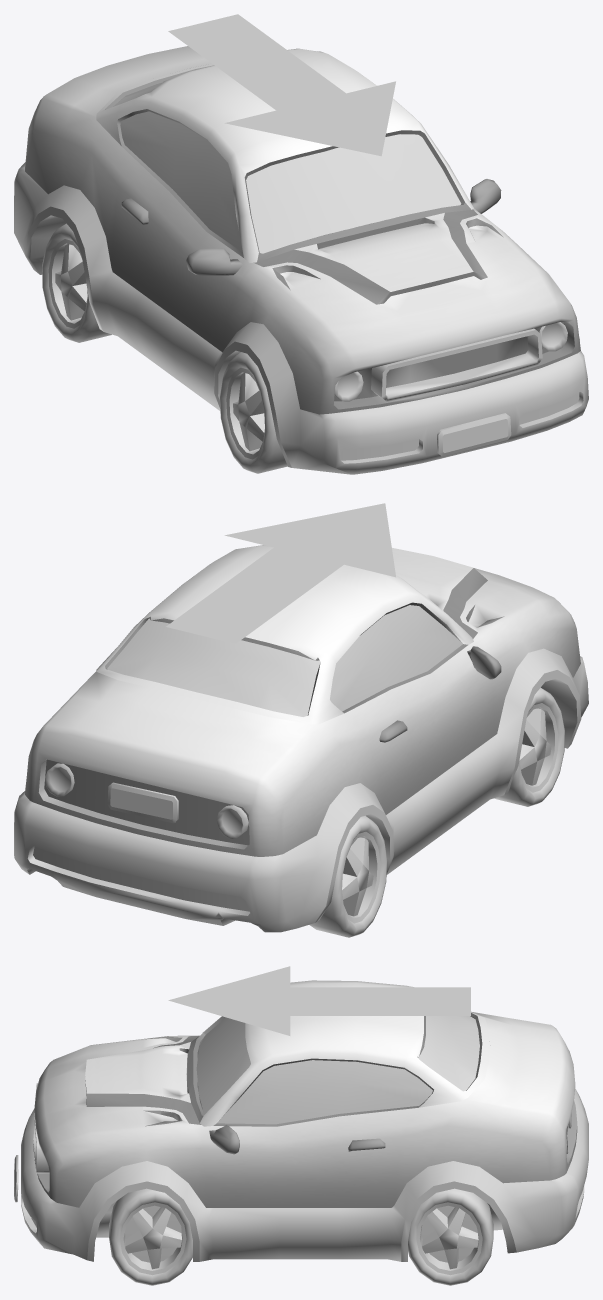
Rendered from 0 Car_FourSeater.fbx.
3 views of the same model, one above another, from view 1: azimuth 30°, elevation 25°; view 2: azimuth 150°, elevation 25°; view 3: azimuth 270°, elevation 25° (orthographic). The views are drawn at different scales.
Parts seen in each view (by area): view 1: Car_Body_Top_color, Car_body_Additional_part, Windows__Removable_, Car_roof__Removable__color, Arrow, Wheel_F_R, Wheel_R_R; view 2: Car_Body_Top_color, Car_body_Additional_part, Windows__Removable_, Car_roof__Removable__color, Arrow, Wheel_R_R, Wheel_F_R; view 3: Car_Body_Top_color, Car_body_Additional_part, Windows__Removable_, Car_roof__Removable__color, Arrow, Wheel_R_L, Wheel_F_L.
Boxes of the visible parts, x1=… form: Car_Body_Top_color: x1=25, y1=46, x2=580, y2=414; Car_body_Additional_part: x1=14, y1=162, x2=588, y2=474; Windows__Removable_: x1=114, y1=87, x2=461, y2=253; Car_roof__Removable__color: x1=96, y1=48, x2=473, y2=262; Arrow: x1=168, y1=14, x2=395, y2=156; Wheel_F_R: x1=220, y1=352, x2=287, y2=473; Wheel_R_R: x1=42, y1=223, x2=111, y2=342; Car_Body_Top_color: x1=25, y1=548, x2=580, y2=856; Car_body_Additional_part: x1=14, y1=648, x2=588, y2=932; Windows__Removable_: x1=107, y1=605, x2=462, y2=716; Car_roof__Removable__color: x1=96, y1=545, x2=473, y2=724; Arrow: x1=166, y1=503, x2=395, y2=643; Wheel_R_R: x1=309, y1=815, x2=387, y2=937; Wheel_F_R: x1=494, y1=687, x2=564, y2=806; Car_Body_Top_color: x1=33, y1=1011, x2=577, y2=1207; Car_body_Additional_part: x1=14, y1=1083, x2=588, y2=1261; Windows__Removable_: x1=196, y1=1016, x2=479, y2=1124; Car_roof__Removable__color: x1=187, y1=980, x2=490, y2=1126; Arrow: x1=168, y1=966, x2=470, y2=1035; Wheel_R_L: x1=408, y1=1188, x2=493, y2=1285; Wheel_F_L: x1=109, y1=1188, x2=192, y2=1285.
Size of what is drawn, in the model's own units: 136 by 114 by 261.
